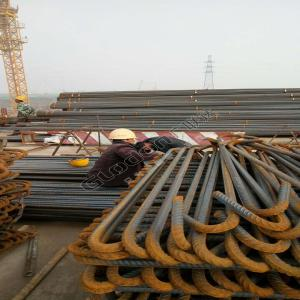none: (136, 142, 154, 154)
yellow: (108, 129, 138, 147), (14, 97, 27, 105)
